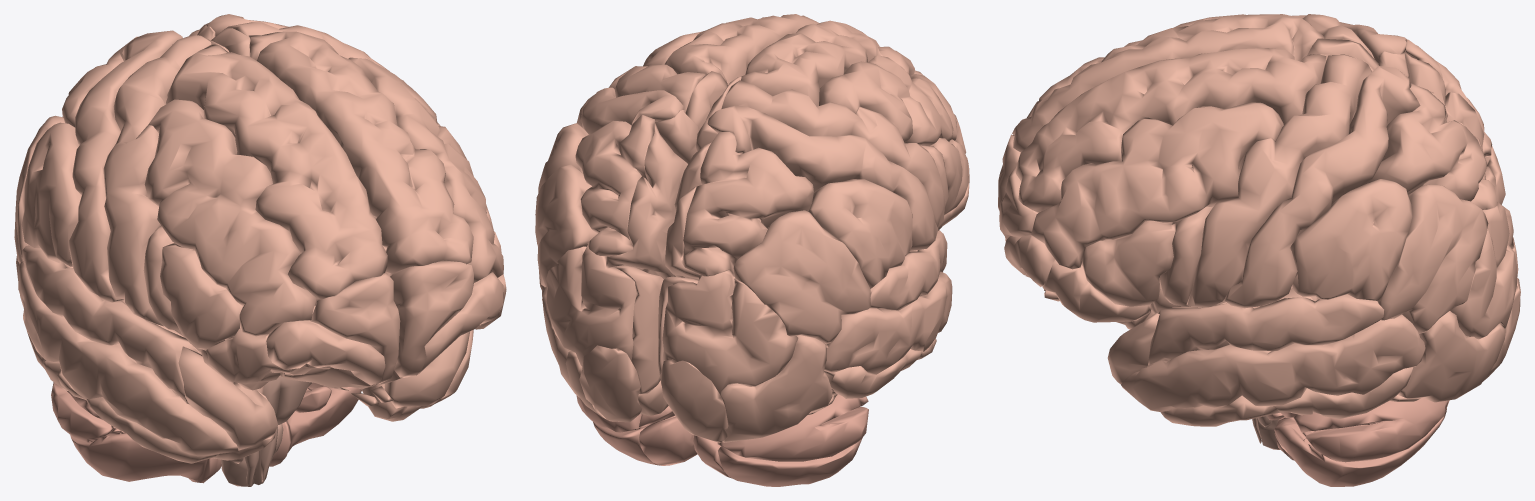
File: brain-lite.mo.glb
3 renders of one model, left to right at view 1: azimuth 30°, elevation 25°; view 2: azimuth 150°, elevation 25°; view 3: azimuth 270°, elevation 25°, orthographic. The views are drawn at different scales.
Parts seen in each view (by area): view 1: Frontal_lobe, Temporal_lobe, Parietal_lobe, Cerebellum, Brainstem; view 2: Parietal_lobe, Occipital_lobe, Frontal_lobe, Cerebellum, Temporal_lobe; view 3: Frontal_lobe, Parietal_lobe, Temporal_lobe, Occipital_lobe, Cerebellum, Brainstem.
Part boxes in pixels (bbox=[...]): Frontal_lobe: bbox=[103, 22, 506, 460]; Temporal_lobe: bbox=[18, 245, 473, 463]; Parietal_lobe: bbox=[14, 14, 389, 302]; Cerebellum: bbox=[51, 382, 361, 483]; Brainstem: bbox=[221, 376, 311, 486]; Parietal_lobe: bbox=[535, 87, 938, 343]; Occipital_lobe: bbox=[542, 245, 836, 442]; Frontal_lobe: bbox=[608, 14, 969, 230]; Cerebellum: bbox=[576, 394, 868, 486]; Temporal_lobe: bbox=[539, 230, 952, 398]; Frontal_lobe: bbox=[998, 14, 1378, 329]; Parietal_lobe: bbox=[1223, 22, 1497, 333]; Temporal_lobe: bbox=[1107, 285, 1425, 426]; Occipital_lobe: bbox=[1389, 146, 1520, 402]; Cerebellum: bbox=[1267, 397, 1449, 486]; Brainstem: bbox=[1252, 415, 1280, 449].
Size of the model in its own units: 1.63 by 1.74 by 2.
